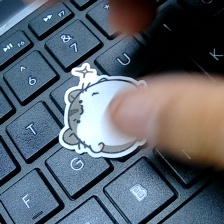mouse: (59, 61, 164, 159)
